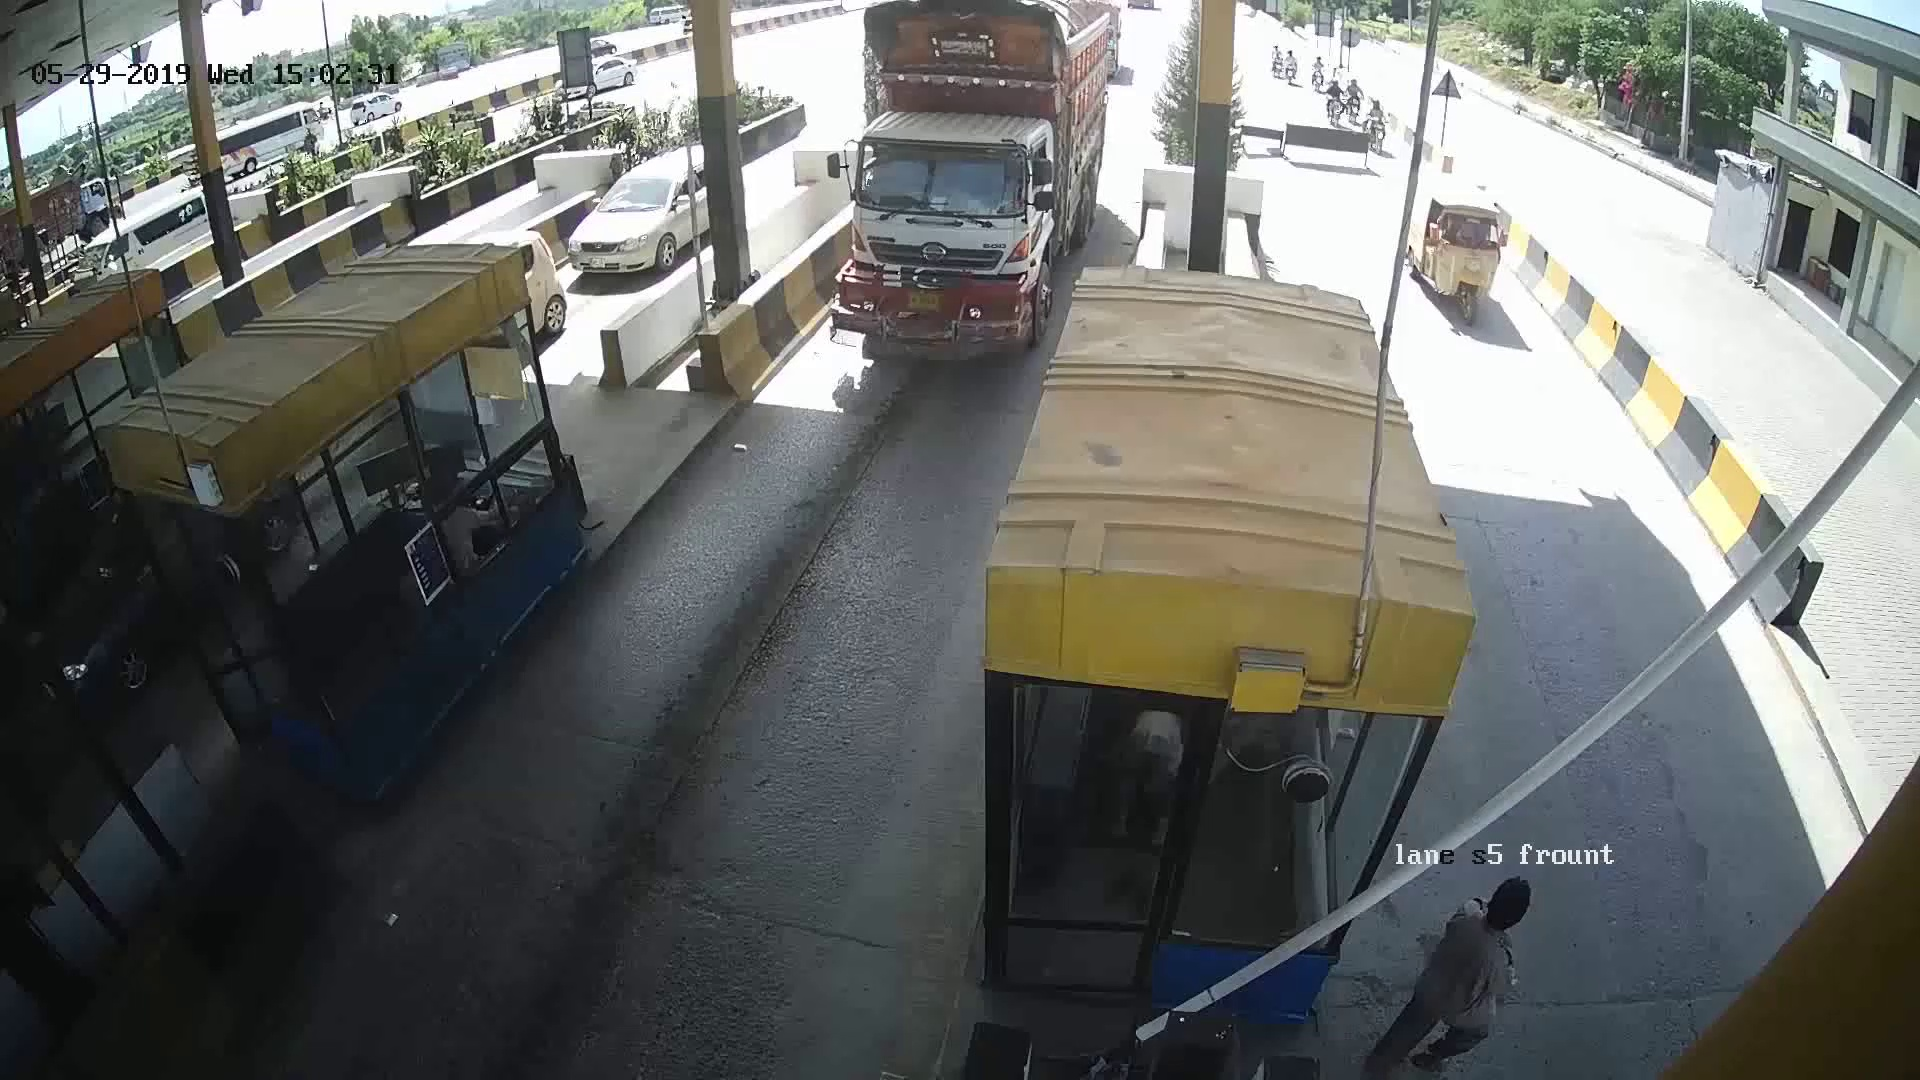truck: (837, 9, 1077, 324)
